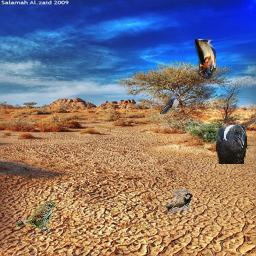Crow: (216, 124, 247, 164)
Sparrow: (16, 201, 56, 232), (165, 189, 193, 214)
Swallow: (195, 39, 216, 79), (160, 92, 180, 114)
